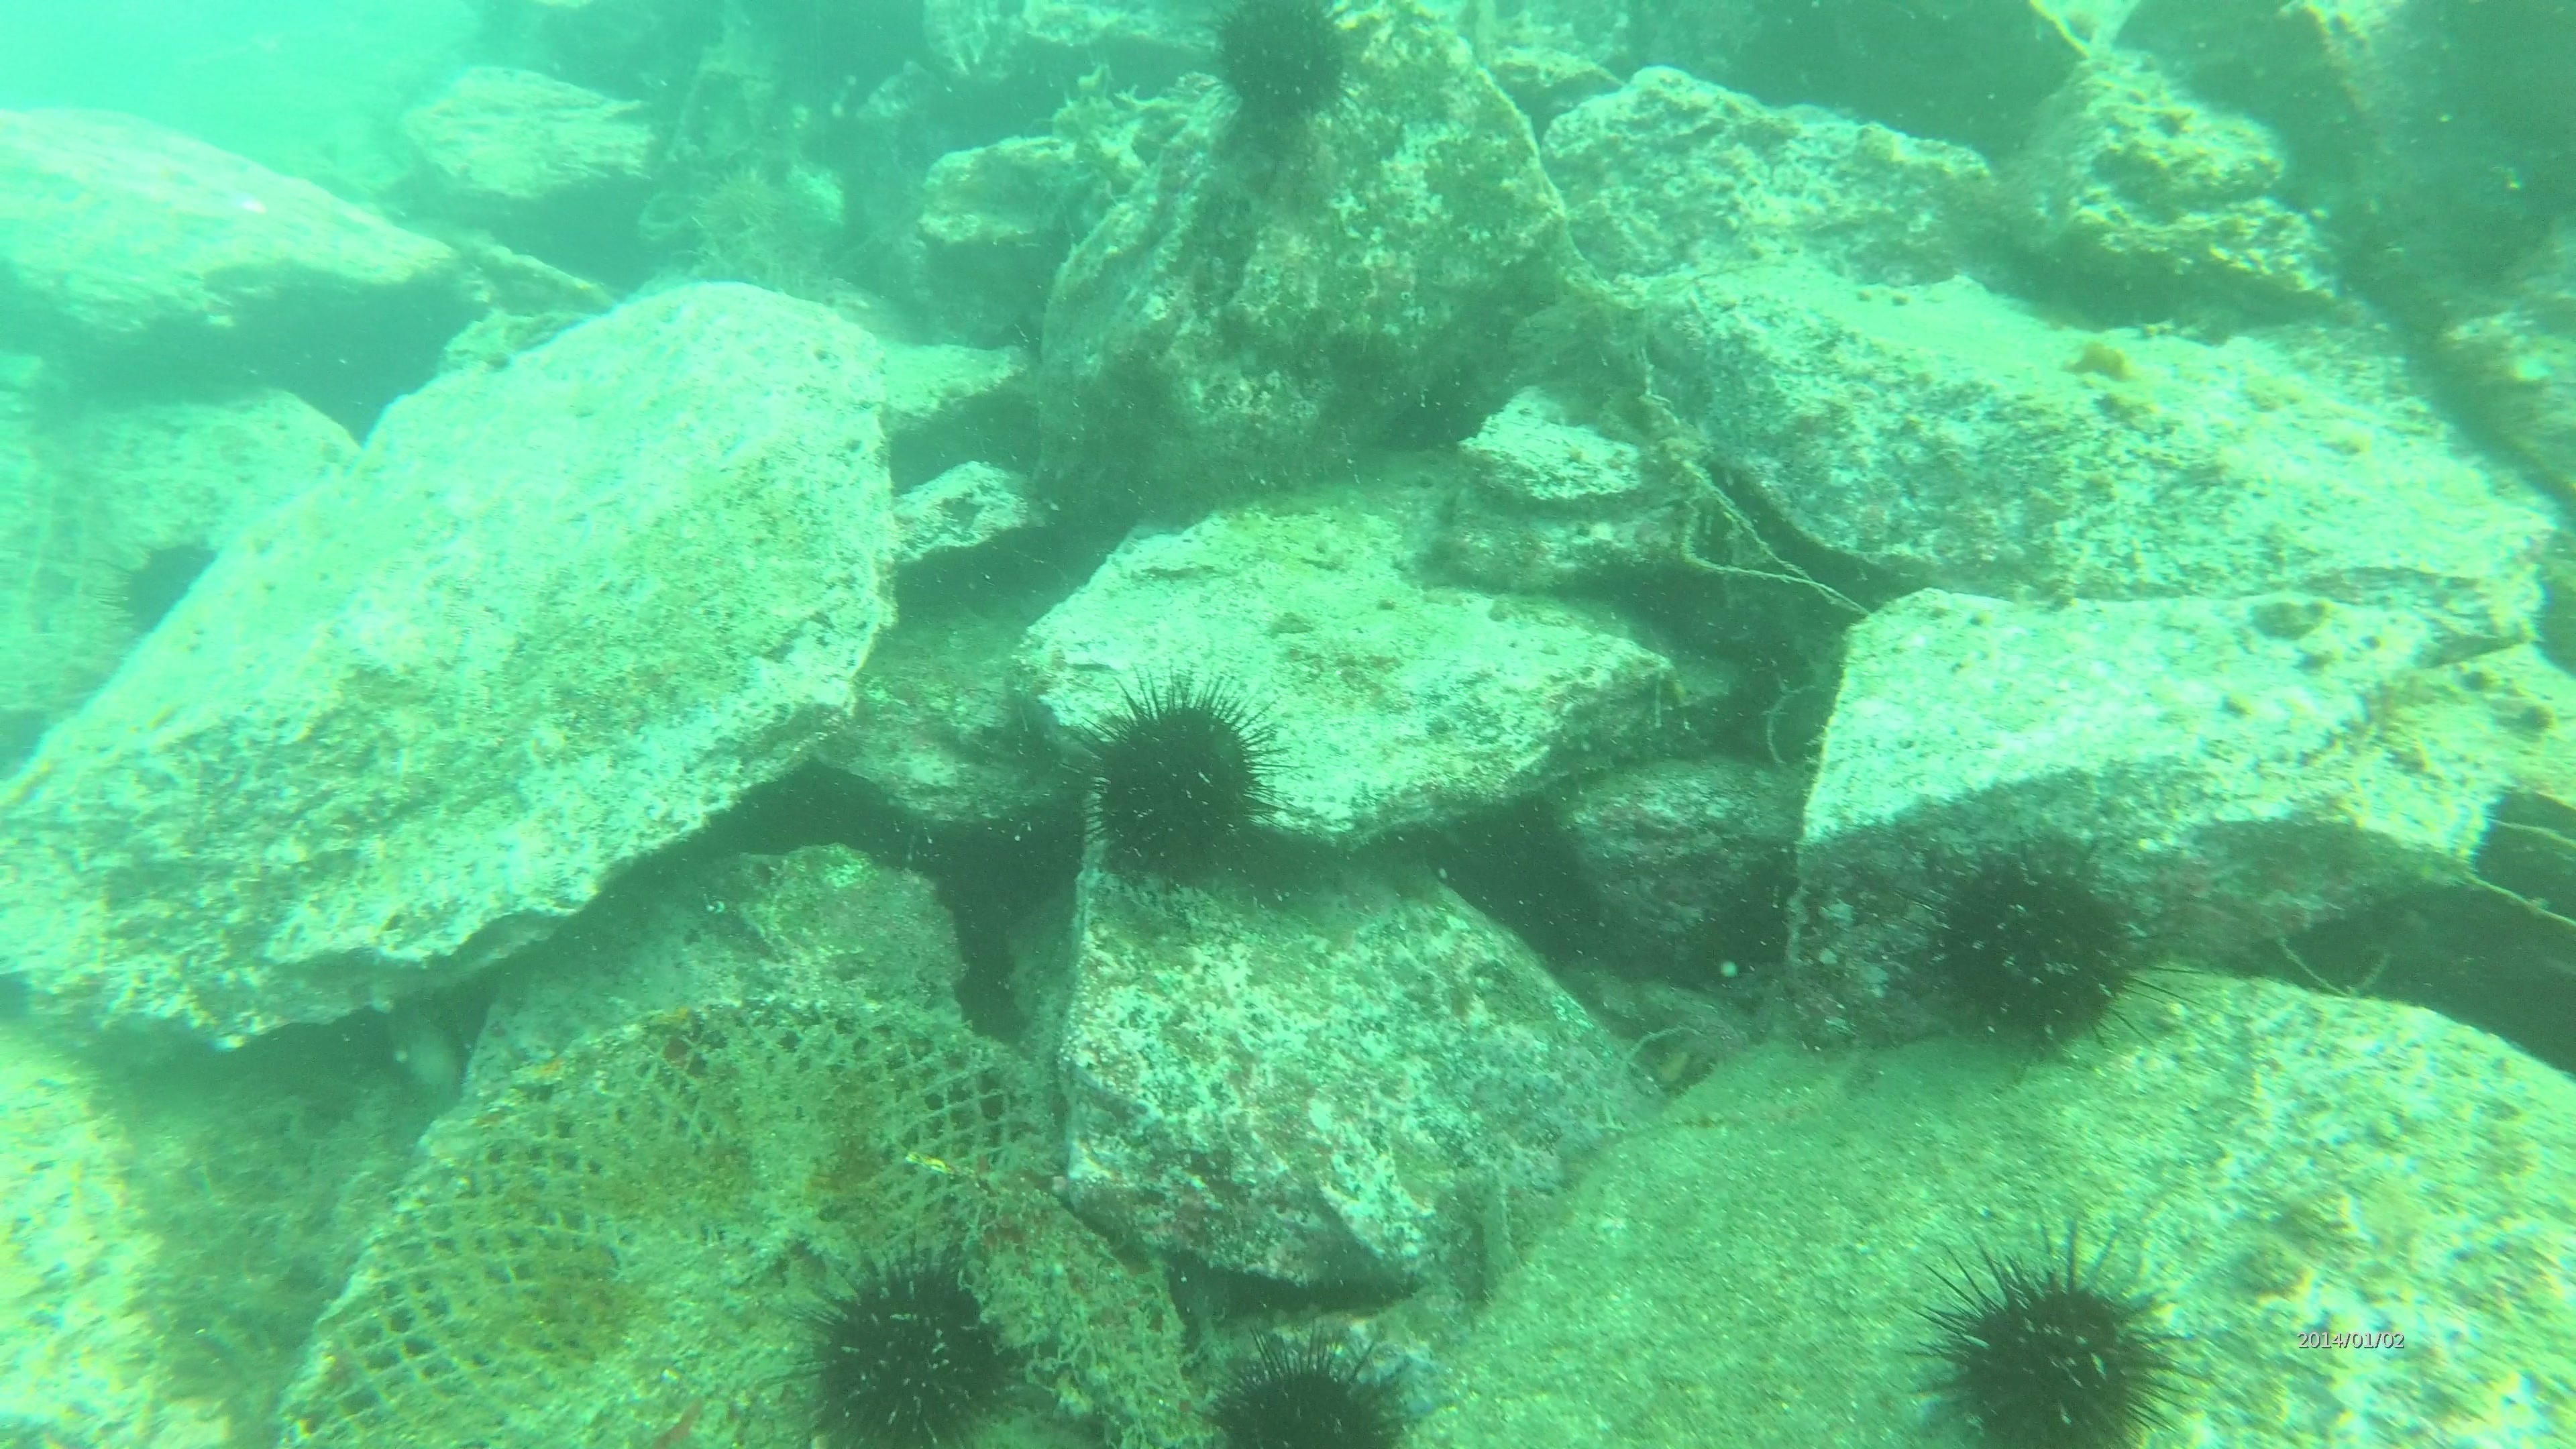echinus: (1909, 1226, 2190, 1444), (1918, 833, 2155, 1058), (787, 1246, 1028, 1444), (1074, 674, 1283, 888), (1200, 1338, 1421, 1444), (1200, 4, 1364, 136), (678, 157, 823, 292), (104, 527, 225, 646)
